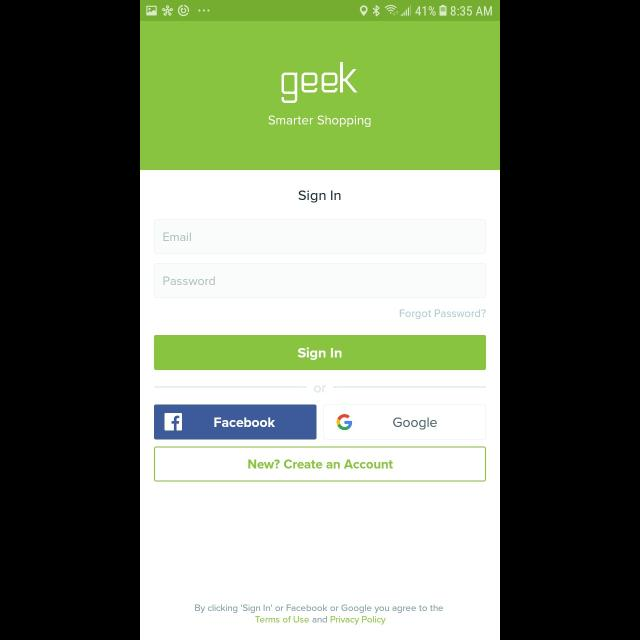input: (154, 264, 486, 298), (154, 220, 486, 254)
text: (195, 604, 443, 624), (282, 62, 358, 104), (269, 116, 371, 128), (400, 309, 486, 319), (164, 276, 216, 286), (299, 191, 341, 203), (164, 232, 192, 242), (314, 386, 326, 392)
textbutton: (154, 446, 486, 482), (154, 336, 486, 370), (324, 404, 486, 440), (155, 404, 317, 440)
uppertaskbar: (140, 1, 500, 22)
